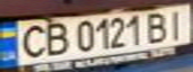0: (72, 18, 96, 52)
1: (124, 12, 148, 47), (93, 16, 112, 51)
2: (109, 15, 130, 49)
B: (39, 20, 72, 56), (142, 10, 172, 44)
C: (12, 21, 51, 60)
I: (163, 7, 193, 40)
